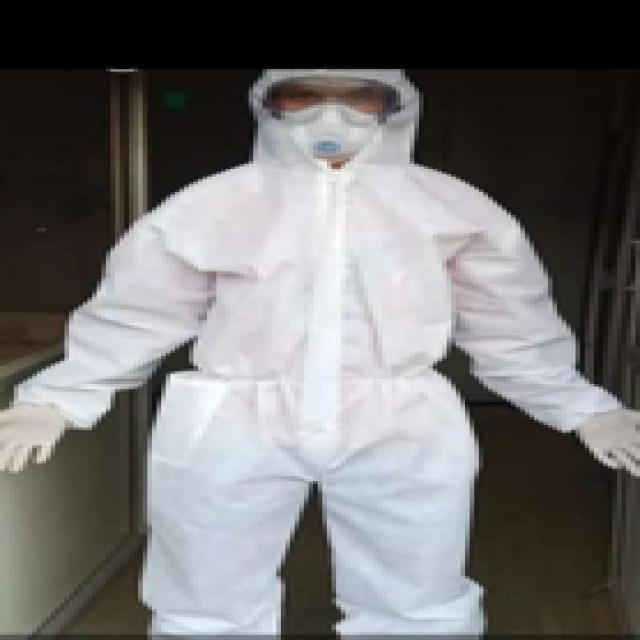Coverall: (0, 30, 175, 320)
Gloves: (159, 201, 178, 242), (0, 198, 19, 238)
Mask: (75, 53, 105, 78)
